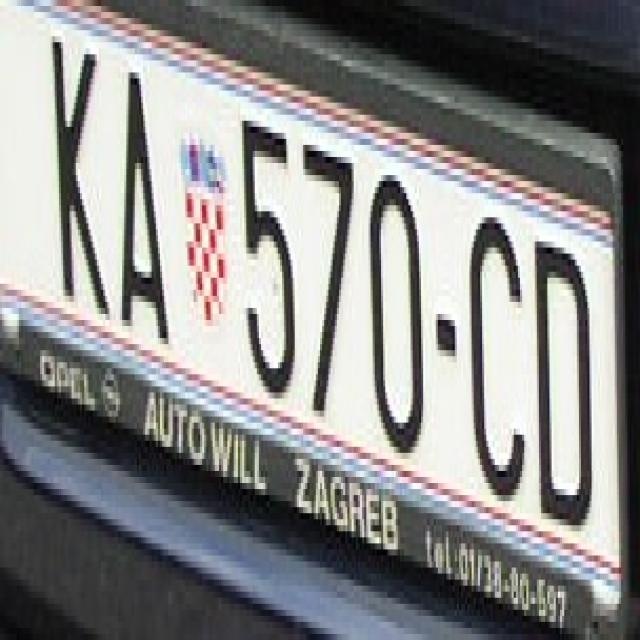0: (364, 145, 432, 471)
5: (232, 90, 299, 398)
7: (299, 96, 362, 446)
A: (114, 42, 181, 362)
C: (461, 151, 528, 519)
D: (528, 194, 604, 544)
K: (36, 30, 111, 338)
